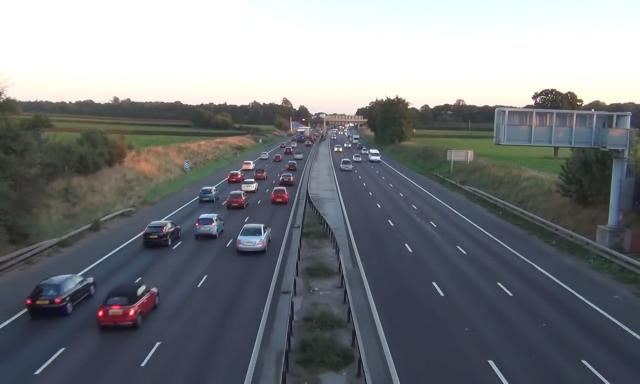caminhaop: (296, 128, 306, 143), (301, 126, 311, 138)
carro: (24, 273, 96, 320), (96, 282, 160, 332), (141, 218, 185, 249), (236, 224, 272, 255), (194, 212, 226, 241), (226, 190, 250, 210), (198, 186, 220, 205), (271, 186, 290, 206), (241, 178, 259, 193), (227, 171, 246, 184), (280, 173, 294, 186), (340, 159, 353, 173), (254, 168, 267, 181), (286, 160, 298, 171), (242, 160, 255, 170), (352, 153, 362, 163), (272, 154, 283, 163), (260, 151, 269, 161), (284, 146, 293, 155), (294, 152, 304, 160), (335, 144, 344, 152), (344, 142, 352, 149), (304, 140, 312, 147), (361, 148, 369, 154), (356, 143, 363, 149), (280, 142, 287, 148), (331, 135, 337, 141), (291, 142, 297, 148), (291, 136, 296, 141)
van: (368, 149, 382, 163), (352, 134, 361, 145)
